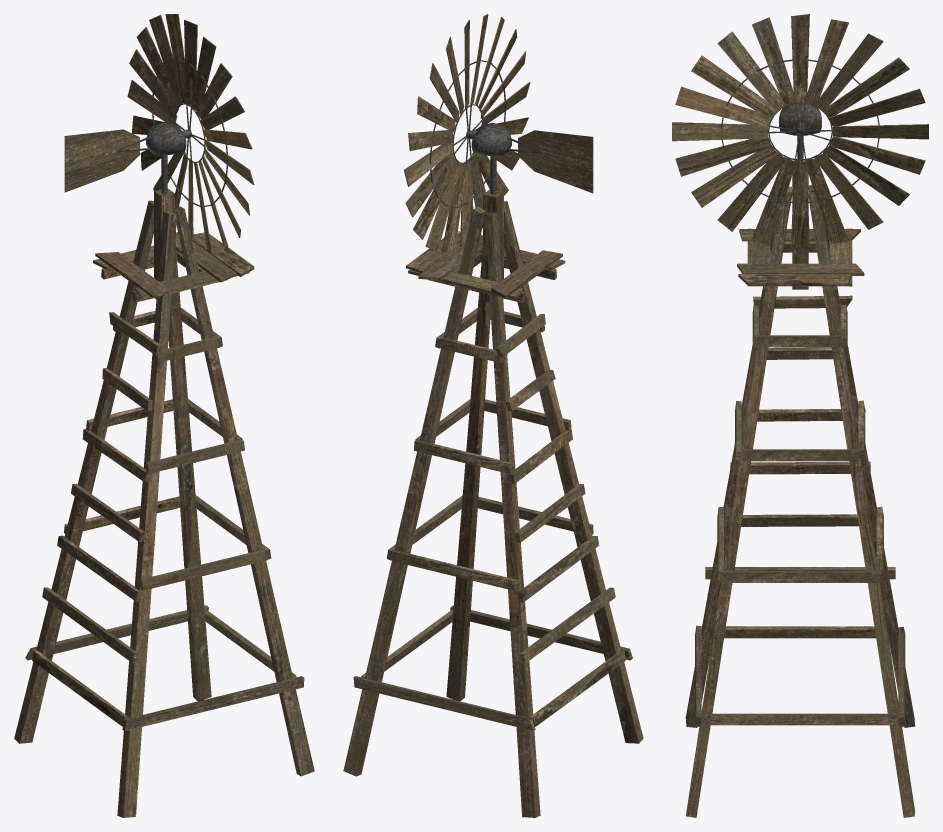
File: Low_poly_Windmill.glb
3 views of the same model, side by side, from view 1: azimuth 30°, elevation 25°; view 2: azimuth 150°, elevation 25°; view 3: azimuth 270°, elevation 25° (orthographic). The views are drawn at different scales.
Visible parts, largest first — view 1: Windmill_Windmill_MAT_0; view 2: Windmill_Windmill_MAT_0; view 3: Windmill_Windmill_MAT_0.
Part boxes in pixels (<box>): Windmill_Windmill_MAT_0: <box>14,14,314,817</box>; Windmill_Windmill_MAT_0: <box>343,14,643,817</box>; Windmill_Windmill_MAT_0: <box>672,14,928,817</box>.
Bounding box in the file's own units: 219 × 778 × 236.
1 material, 1 textured.
